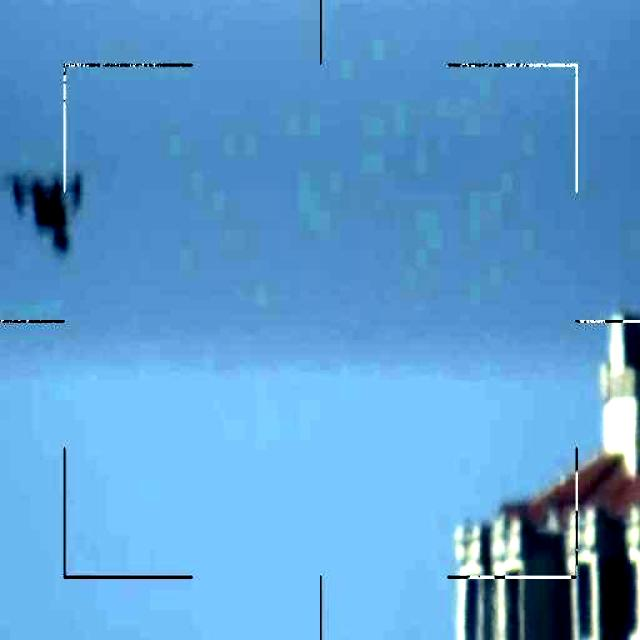bird: (11, 164, 90, 259)
